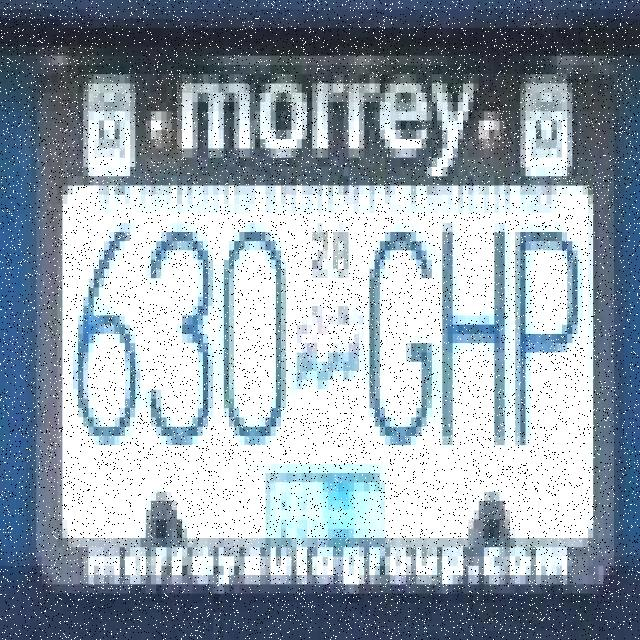licenseplate: (27, 75, 626, 593)
